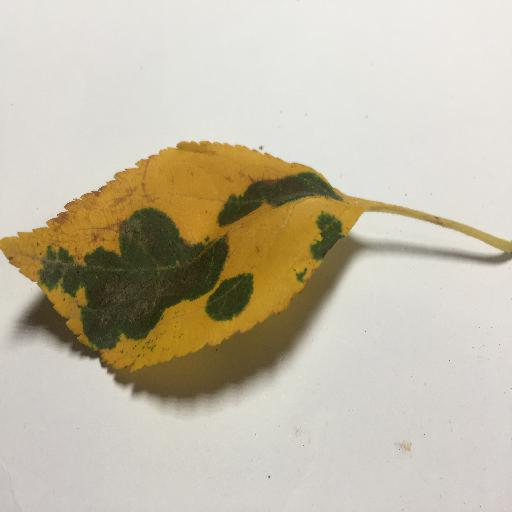Brown_Spot: (72, 245, 214, 320), (220, 178, 310, 214)
